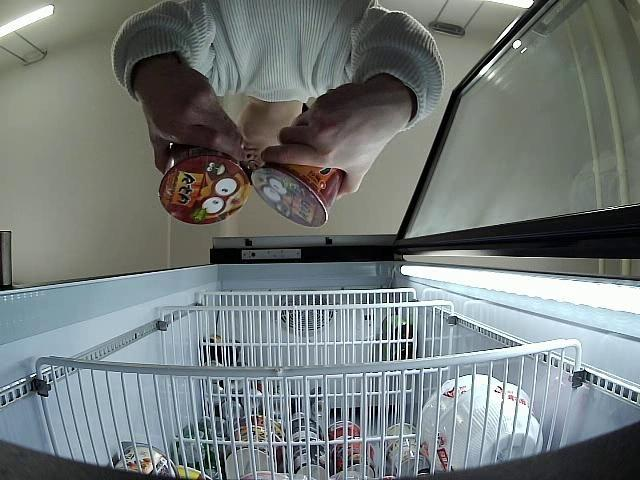06_nuguri_S: (156, 142, 250, 227), (253, 149, 340, 227)
